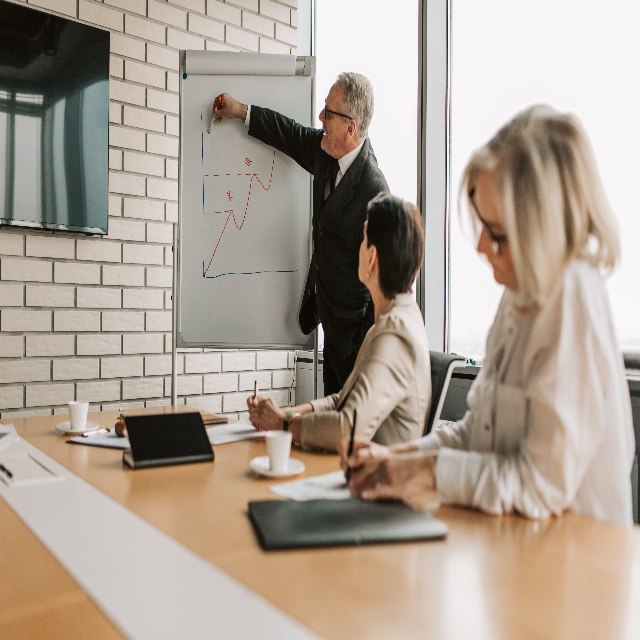Gafas: (467, 187, 508, 256), (324, 97, 353, 121)
Sin_guantes: (348, 457, 429, 501), (337, 437, 386, 480), (250, 396, 283, 430), (212, 92, 241, 122), (246, 393, 263, 414)
